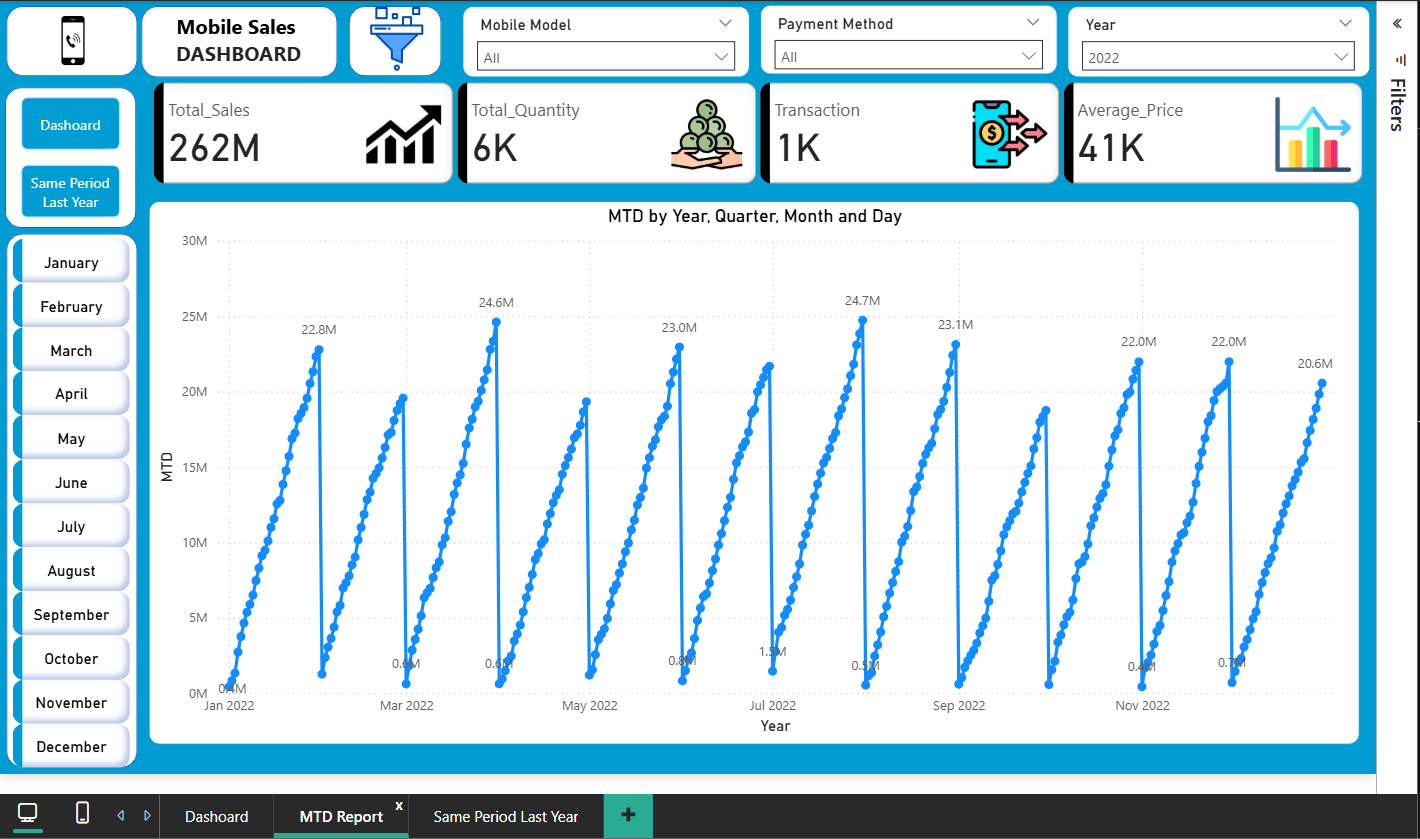

Layout of this report page (visuals, bound fields, positions):
{"tool":"powerbi","page":{"name":"MTD Report","canvas":[1280,720],"ordinal":1},"visuals":[{"type":"shape","box":[5.8,4.7,122.1,65.1],"z":0},{"type":"image","box":[26.7,3.5,82.6,66.3],"z":1000},{"type":"shape","box":[4.9,80.2,122.2,131],"z":2000},{"type":"cardVisual","fields":{"Data":["Sales_Data.Total_Sales","Sales_Data.Total_Quantity","Sales_Data.Transaction","Sales_Data.Average_Price"]},"box":[138.4,70.9,1136,104.7],"z":3000},{"type":"slicer","fields":{"Values":["Sales_Data.Mobile Model"]},"box":[430.2,4.7,267.4,66.3],"z":4000},{"type":"slicer","fields":{"Values":["Sales_Data.Payment Method"]},"box":[707,3.5,276.7,65.1],"z":5000},{"type":"slicer","fields":{"Values":["Custom_Calender.Date.Variation.Date Hierarchy.Year"]},"box":[993,4.7,281.4,66.3],"z":6000},{"type":"shape","box":[324.7,4.9,86.4,65.4],"z":7000},{"type":"image","box":[313.6,0,109.9,70.4],"z":8000},{"type":"shape","box":[130.9,4.9,182.7,66.7],"z":9000},{"type":"textbox","box":[154.3,6.2,134.6,59.3],"z":10000},{"type":"lineChart","fields":{"Y":["Sales_Data.YTD"],"Category":["Custom_Calender.Date.Variation.Date Hierarchy.Year","Custom_Calender.Date.Variation.Date Hierarchy.Quarter","Custom_Calender.Date.Variation.Date Hierarchy.Month","Custom_Calender.Date.Variation.Date Hierarchy.Day"]},"box":[138.4,186,1126.7,505.8],"z":11000},{"type":"shape","box":[5.8,216.3,122.1,497],"z":12000},{"type":"advancedSlicerVisual","fields":{"Values":["Custom_Calender.Date.Variation.Date Hierarchy.Month"]},"box":[7.4,216.1,119.8,503.7],"z":13000},{"type":"pageNavigator","box":[18.6,88.4,94.2,115.1],"z":14000}]}

Visuals, with their boxes on the page's 1280x720 design canvas (x1, y1, x2, y2). These are canvas units, not pixel positions in the 1420x839 screenshot, which may show the page scaled, cropped or inside an application window:
shape: 6 5 128 70
image: 27 4 109 70
shape: 5 80 127 211
cardVisual - Sales_Data.Total_Sales x Sales_Data.Total_Quantity: 138 71 1274 176
slicer - Sales_Data.Mobile Model: 430 5 698 71
slicer - Sales_Data.Payment Method: 707 4 984 69
slicer - Custom_Calender.Date.Variation.Date Hierarchy.Year: 993 5 1274 71
shape: 325 5 411 70
image: 314 0 424 70
shape: 131 5 314 72
textbox: 154 6 289 66
lineChart - Sales_Data.YTD x Custom_Calender.Date.Variation.Date Hierarchy.Year: 138 186 1265 692
shape: 6 216 128 713
advancedSlicerVisual - Custom_Calender.Date.Variation.Date Hierarchy.Month: 7 216 127 720
pageNavigator: 19 88 113 204
